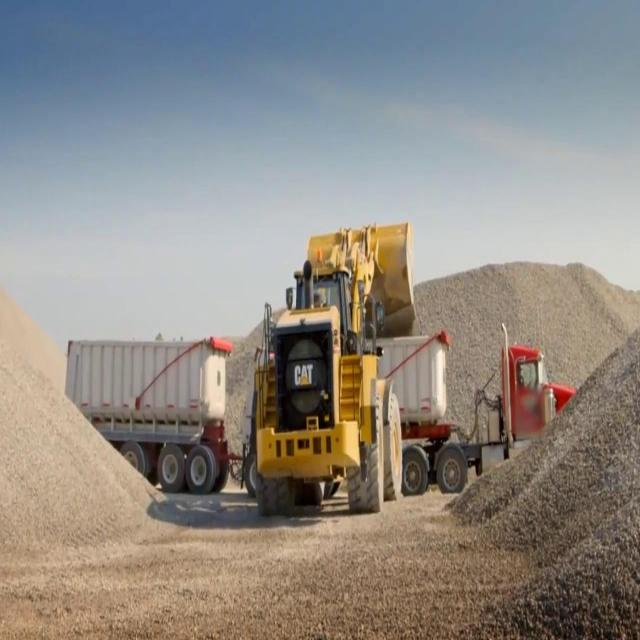Dump Truck: (375, 320, 579, 500), (62, 332, 253, 496)
Loader: (252, 216, 418, 520)
